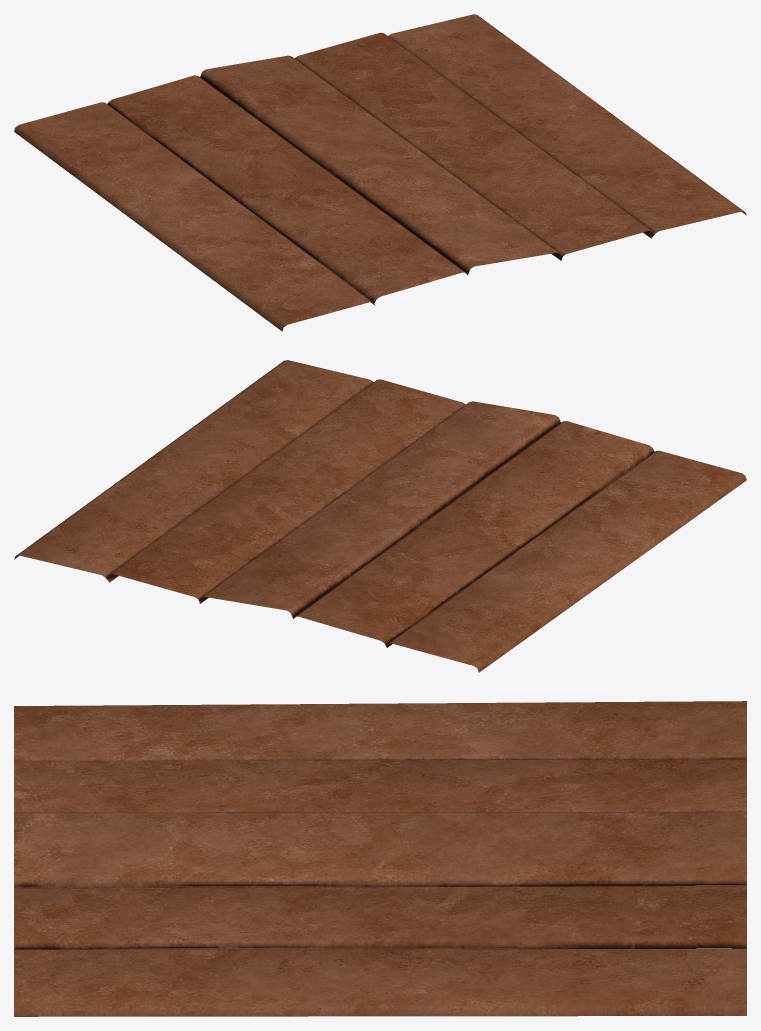
The model's file is ceiling_600_600_03.glb.
3 views of the same model, one above another, from view 1: azimuth 30°, elevation 25°; view 2: azimuth 150°, elevation 25°; view 3: azimuth 270°, elevation 25° (orthographic). The views are drawn at different scales.
Visible parts, largest first — view 1: ceiling_600_600_03; view 2: ceiling_600_600_03; view 3: ceiling_600_600_03.
Part boxes in pixels (x1,y1,x2,y2): ceiling_600_600_03: (14,14,746,331); ceiling_600_600_03: (14,360,746,672); ceiling_600_600_03: (14,701,746,1016).
Size of the model in its own units: 6 by 0.2366 by 6.
1 material, 1 textured.
